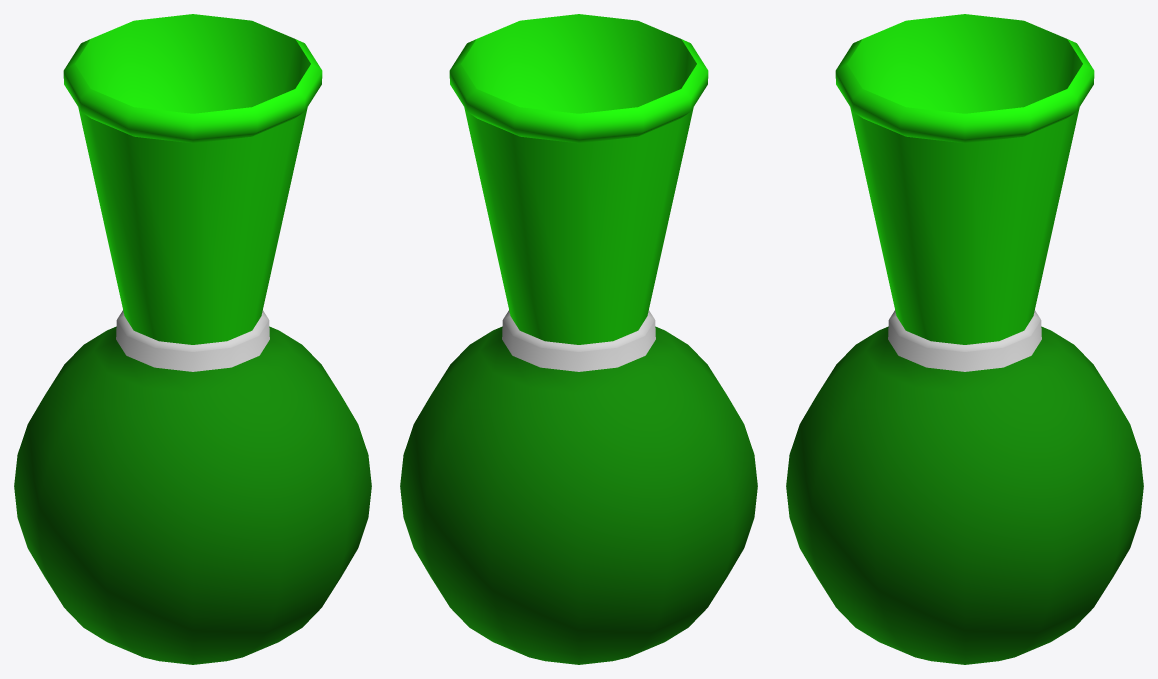
The model's file is CPI_D_FBX_06_Cannon_00_A.fbx.
3 renders of one model, left to right at view 1: azimuth 30°, elevation 25°; view 2: azimuth 150°, elevation 25°; view 3: azimuth 270°, elevation 25°, orthographic.
Parts seen in each view (by area): view 1: CPI_D_FBX_06_Cannon_00_A; view 2: CPI_D_FBX_06_Cannon_00_A; view 3: CPI_D_FBX_06_Cannon_00_A.
Boxes of the visible parts, box(x1,y1,x2,y2) form: CPI_D_FBX_06_Cannon_00_A: box(14, 14, 371, 664); CPI_D_FBX_06_Cannon_00_A: box(400, 14, 757, 664); CPI_D_FBX_06_Cannon_00_A: box(786, 14, 1143, 664).
Bounding box in the file's own units: 1.63 × 2.94 × 1.63.
